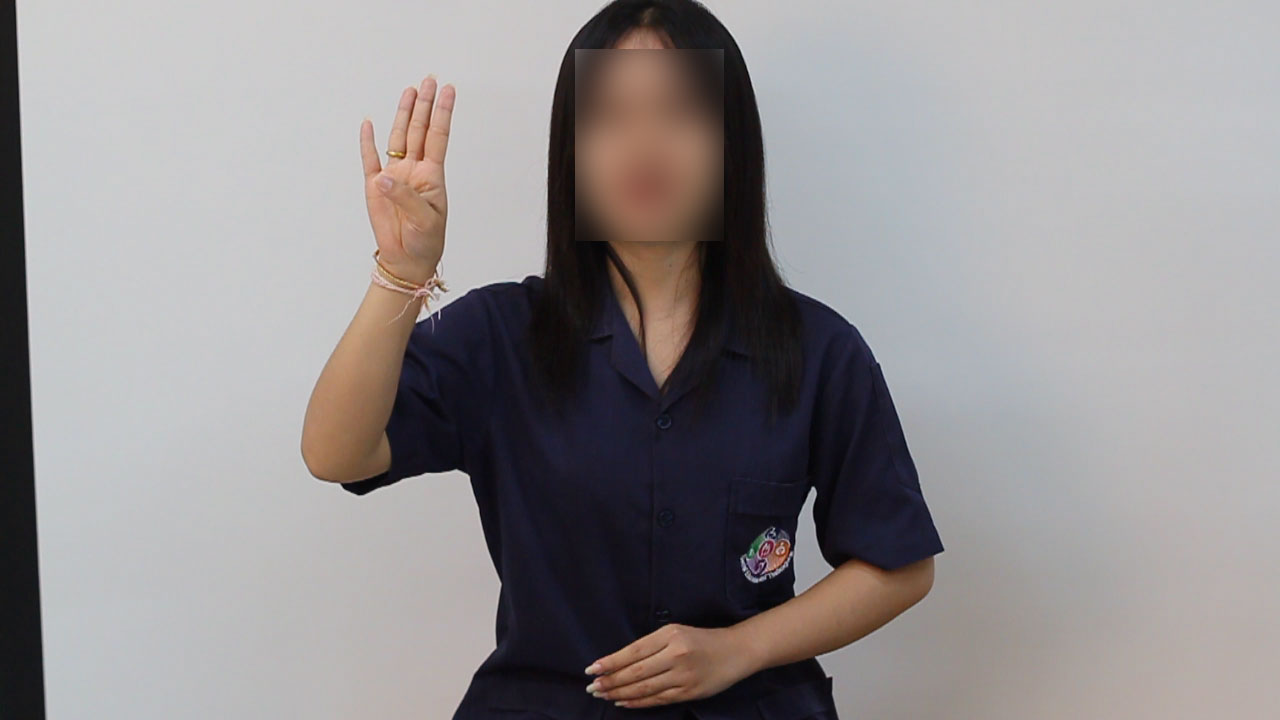bor: (342, 56, 472, 317)
